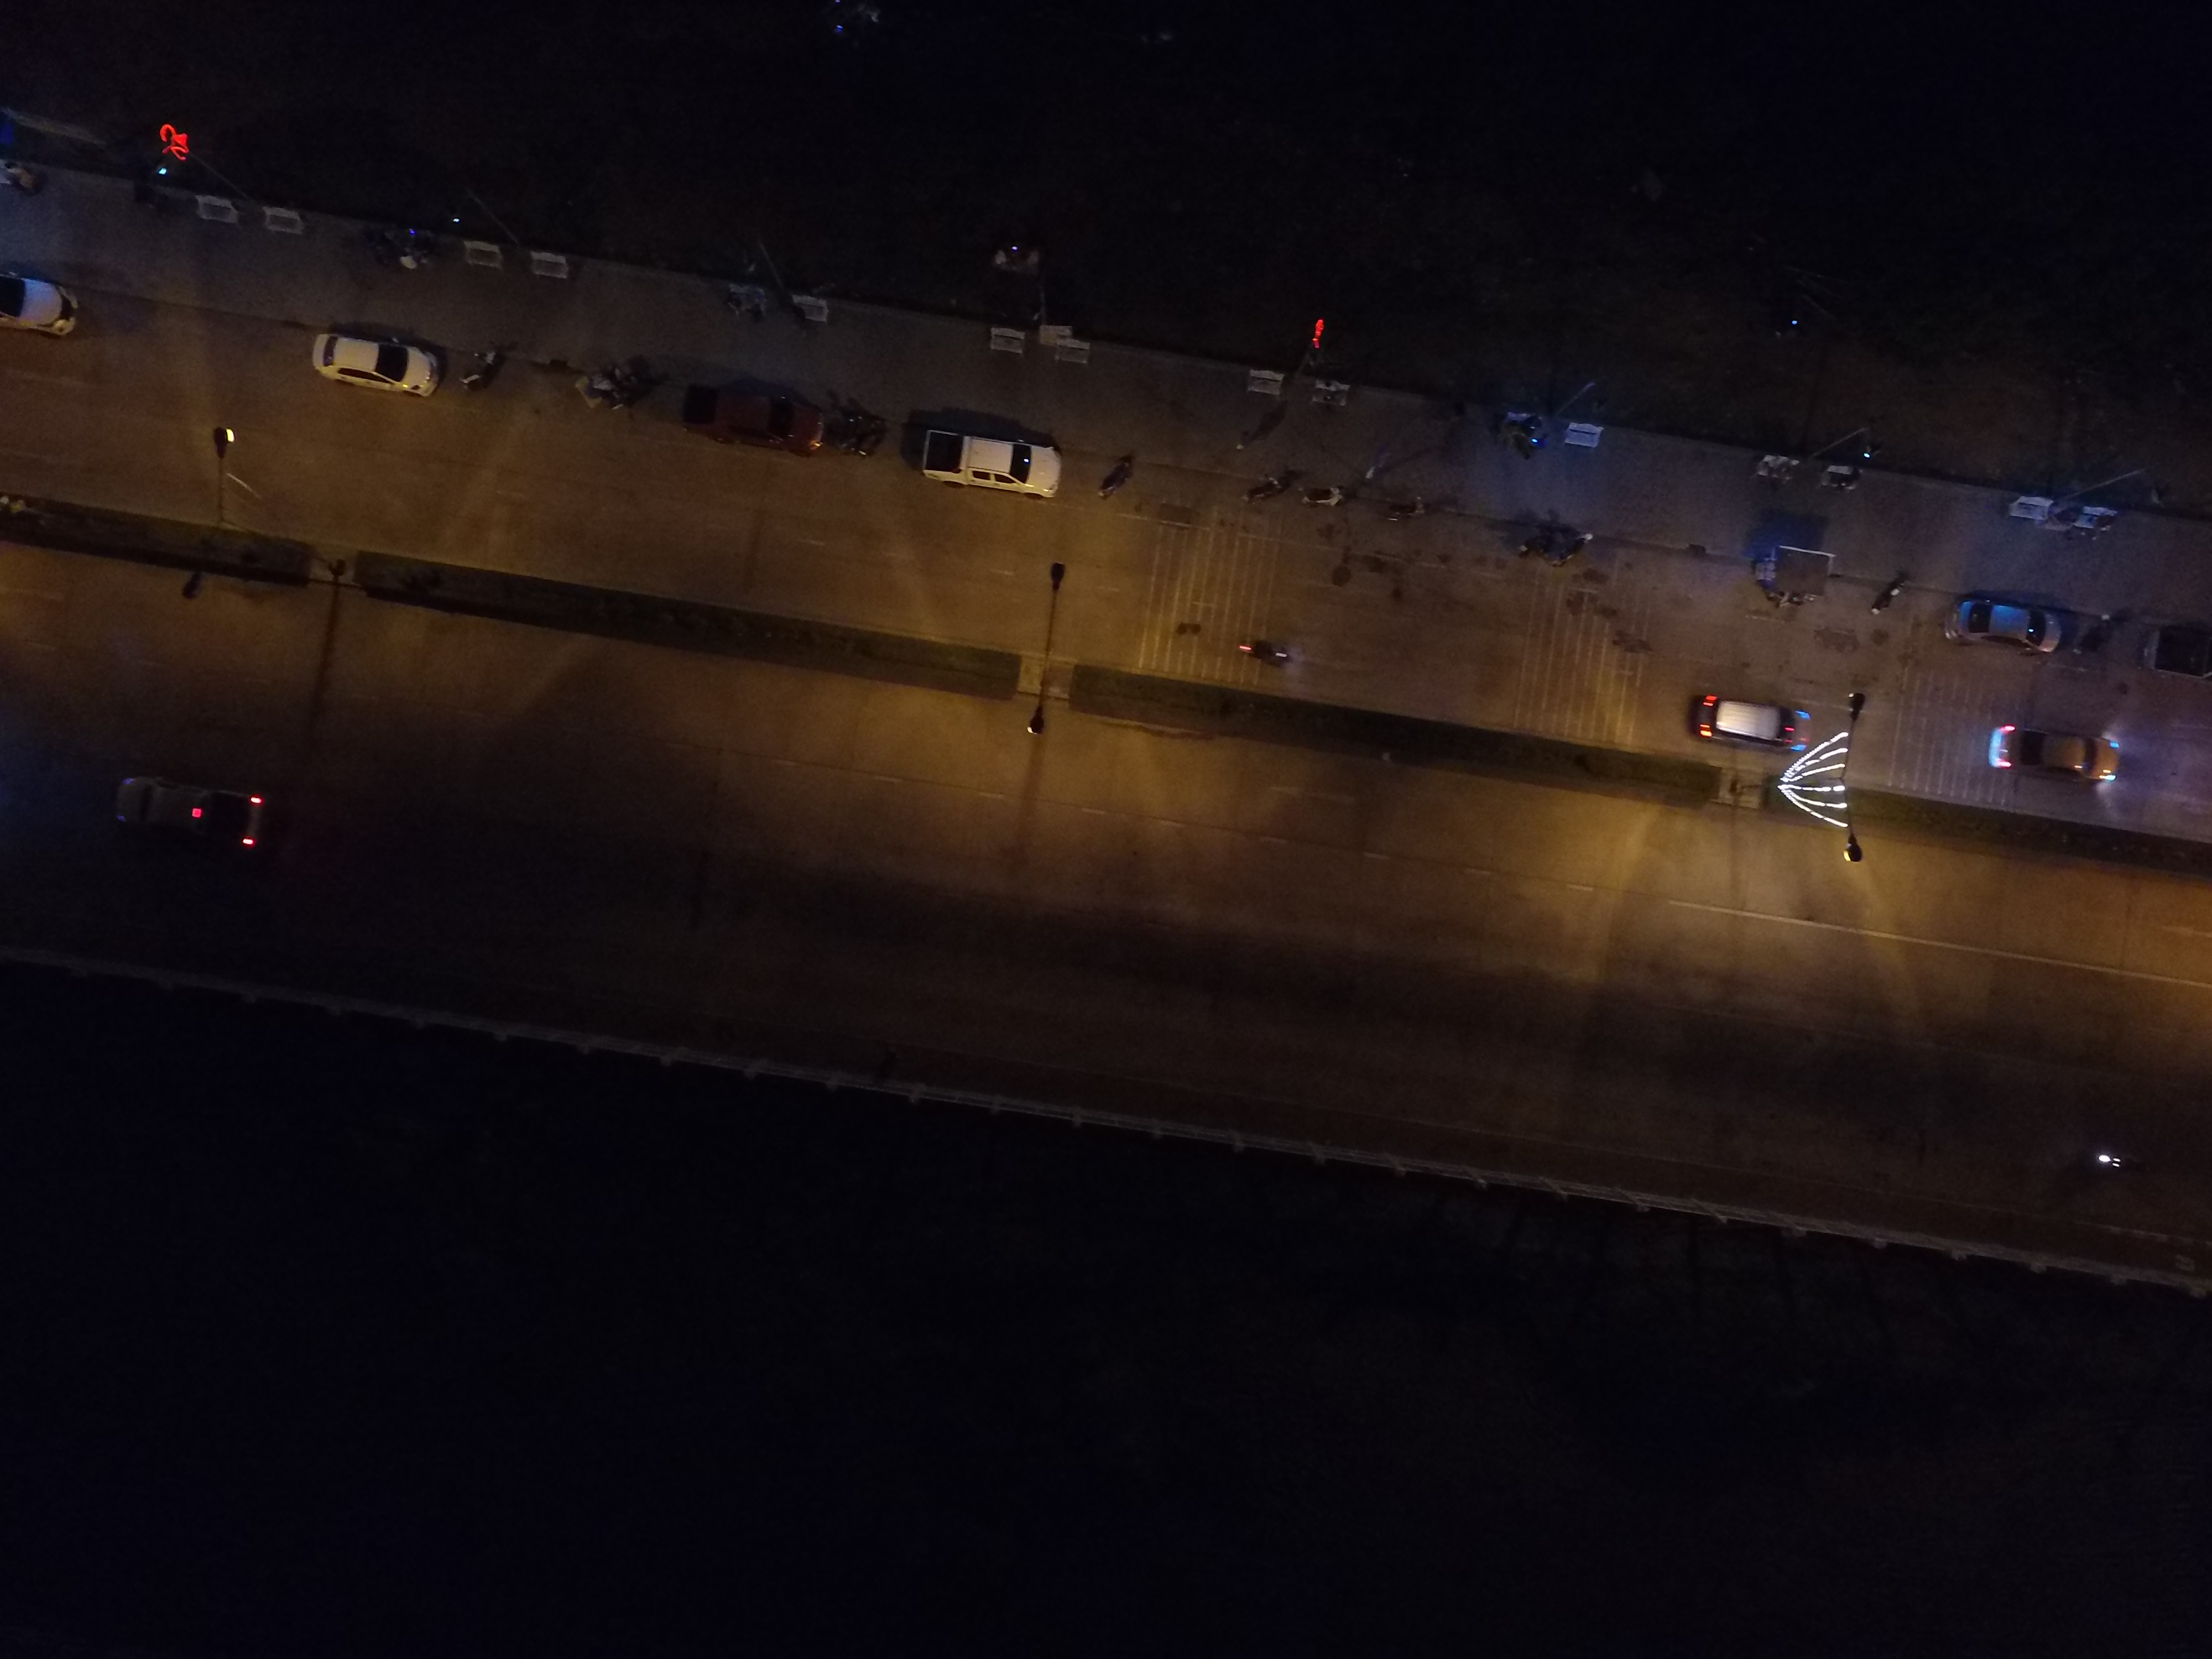car: (1973, 708, 2141, 812), (105, 758, 272, 863), (911, 415, 1076, 519), (681, 373, 846, 477), (291, 319, 456, 423), (1653, 669, 1818, 774), (1905, 586, 2071, 690)
